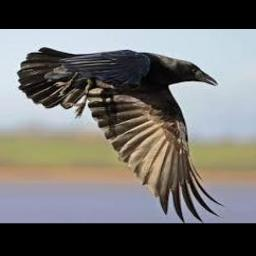Crow: (17, 48, 224, 223)
